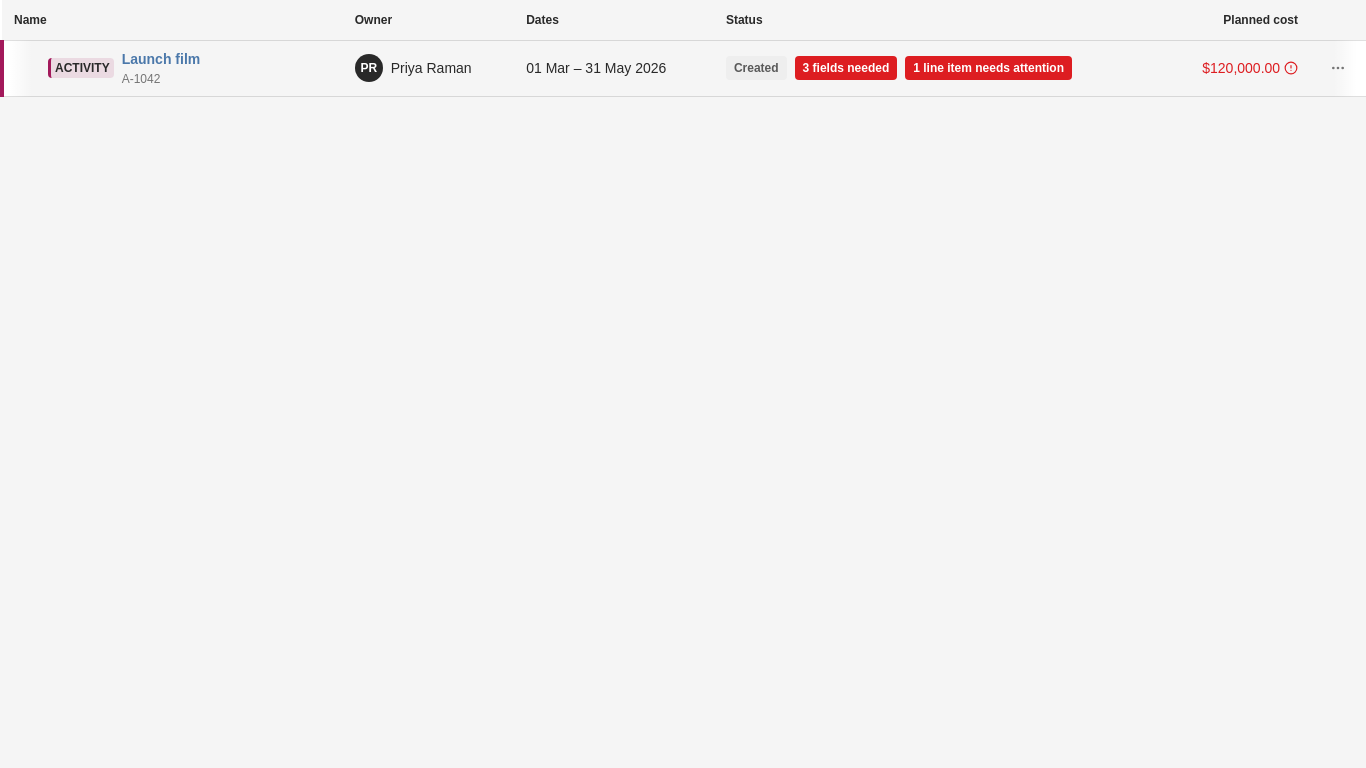
Test case: activityTreeRows (feature 006) › deletes an activity from its row after asking, by keyboard, and offers Undo (FR-031)
Click the button named "Actions for Launch film": (1338, 68) [1322,52,1354,84]
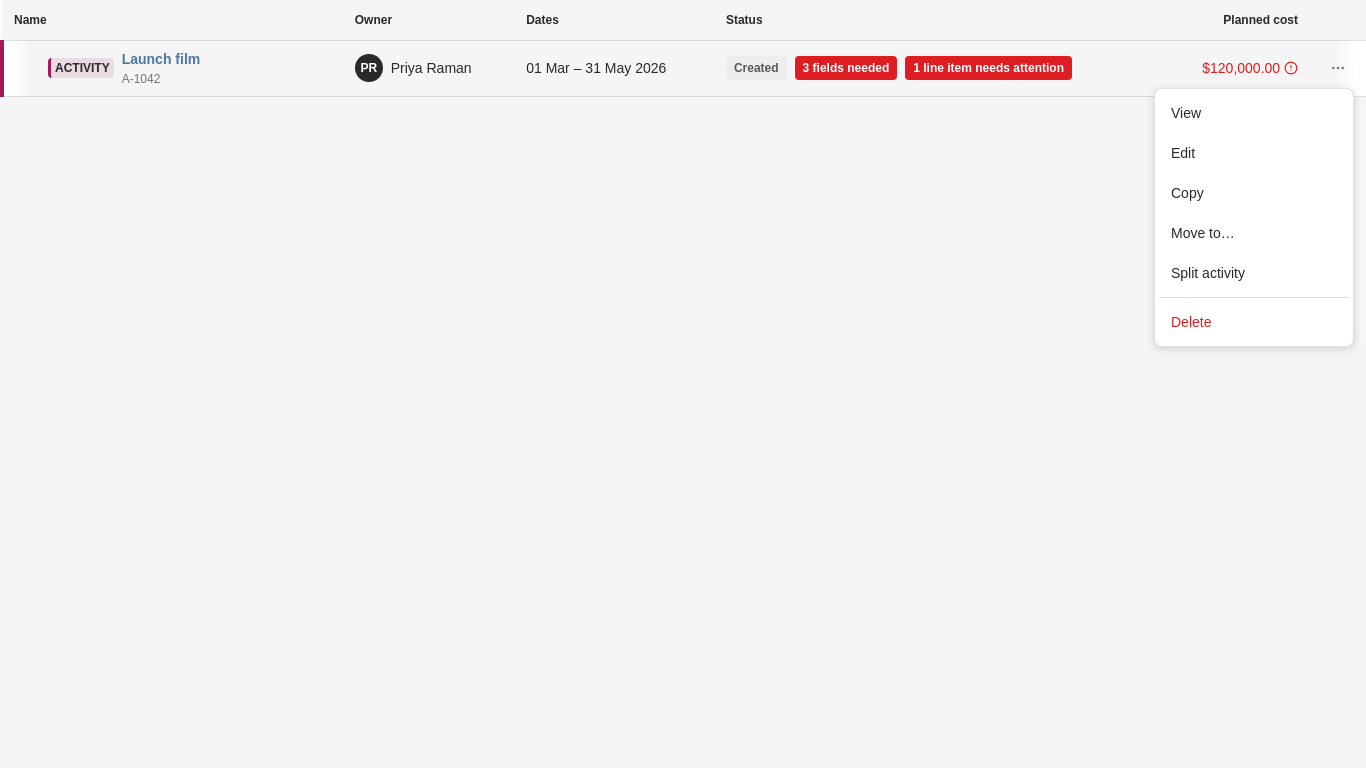
Click the menu item "Delete": (1191, 322) [1171,314,1212,330]
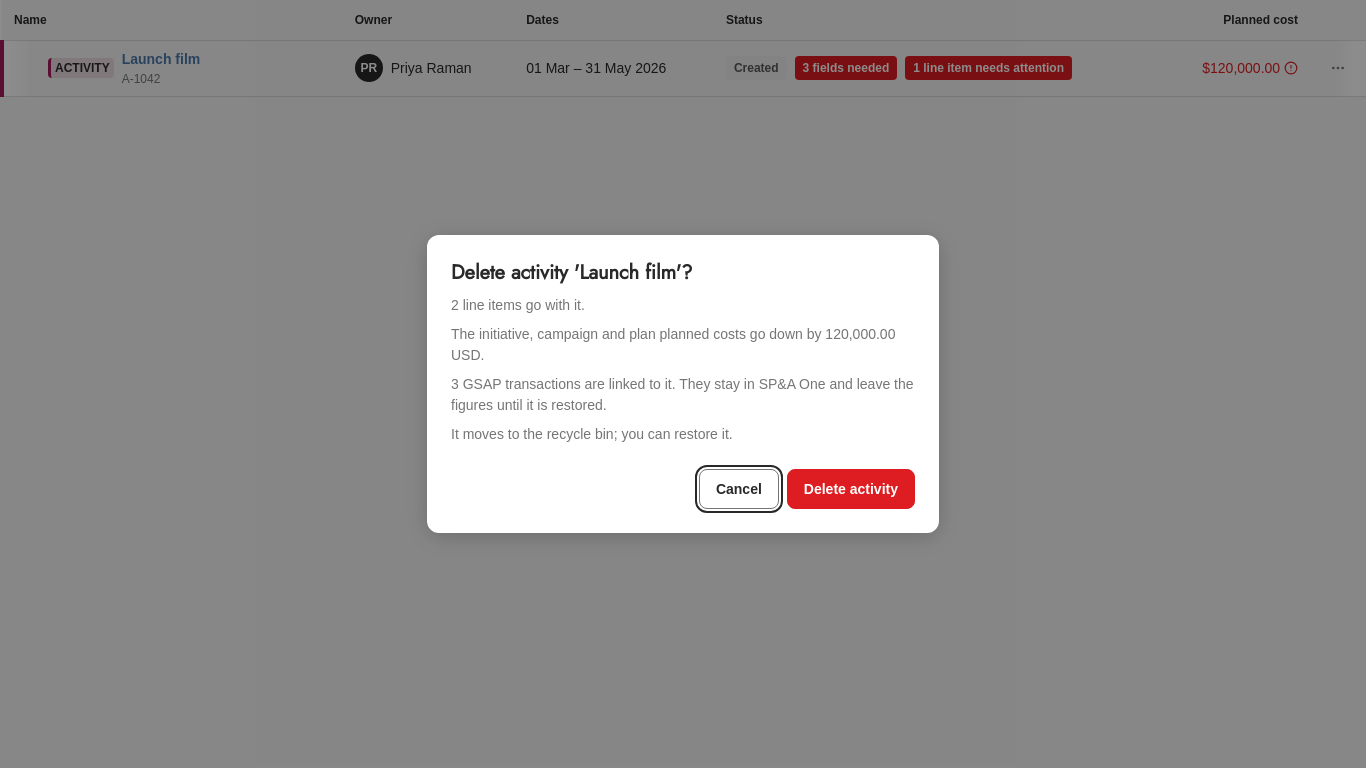
Expected: the text "2 line items go with it." is shown, [451,297,585,313]
Expected: the text "3 GSAP transactions are linked to it. They stay in SP&A One and leave the figures until it is restored." is shown, [451,376,914,413]
Enter on the question's button is the dialog's, not the row's (which opens the page).
Press Tab
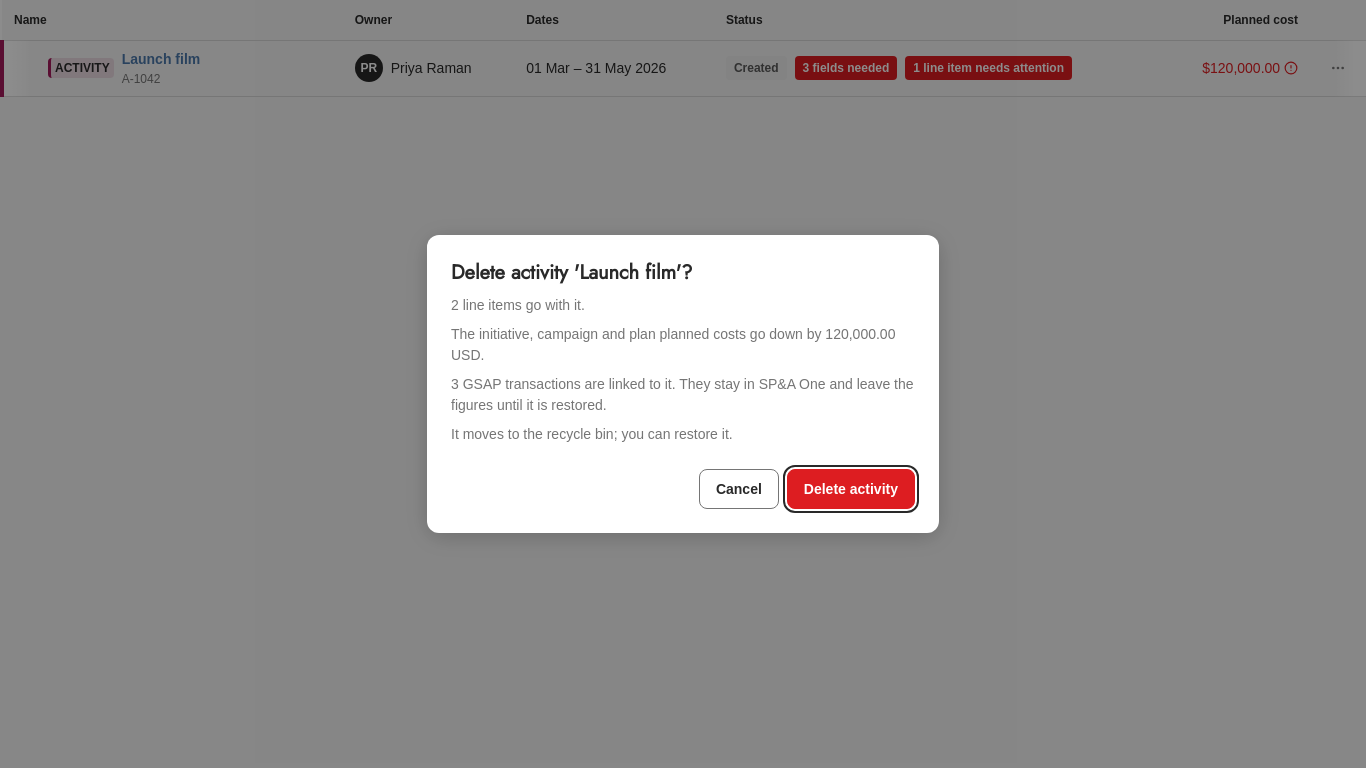
Press Enter
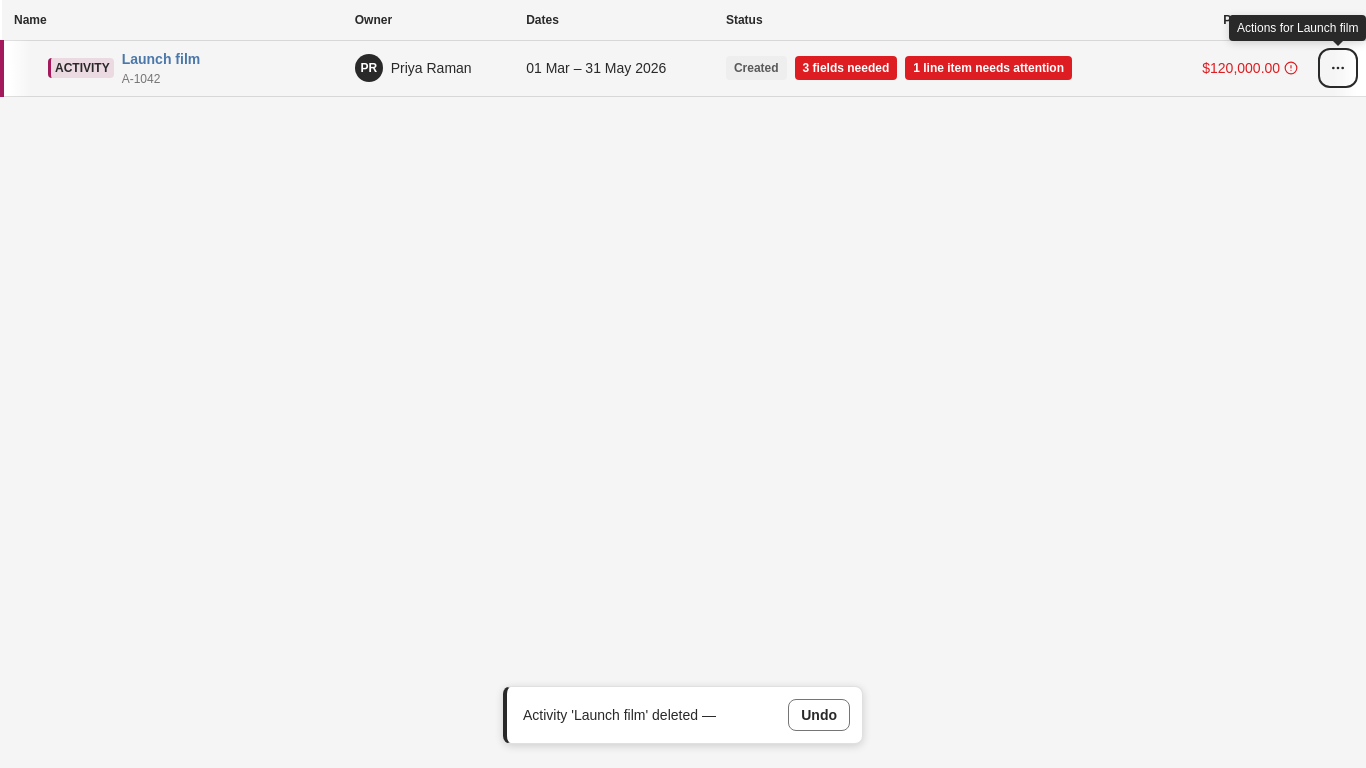
Expected: the text "Activity 'Launch film' deleted" is shown, [523,706,702,722]
Expected: the dialog is gone
Click the button "Undo": (819, 715) [788,699,850,731]
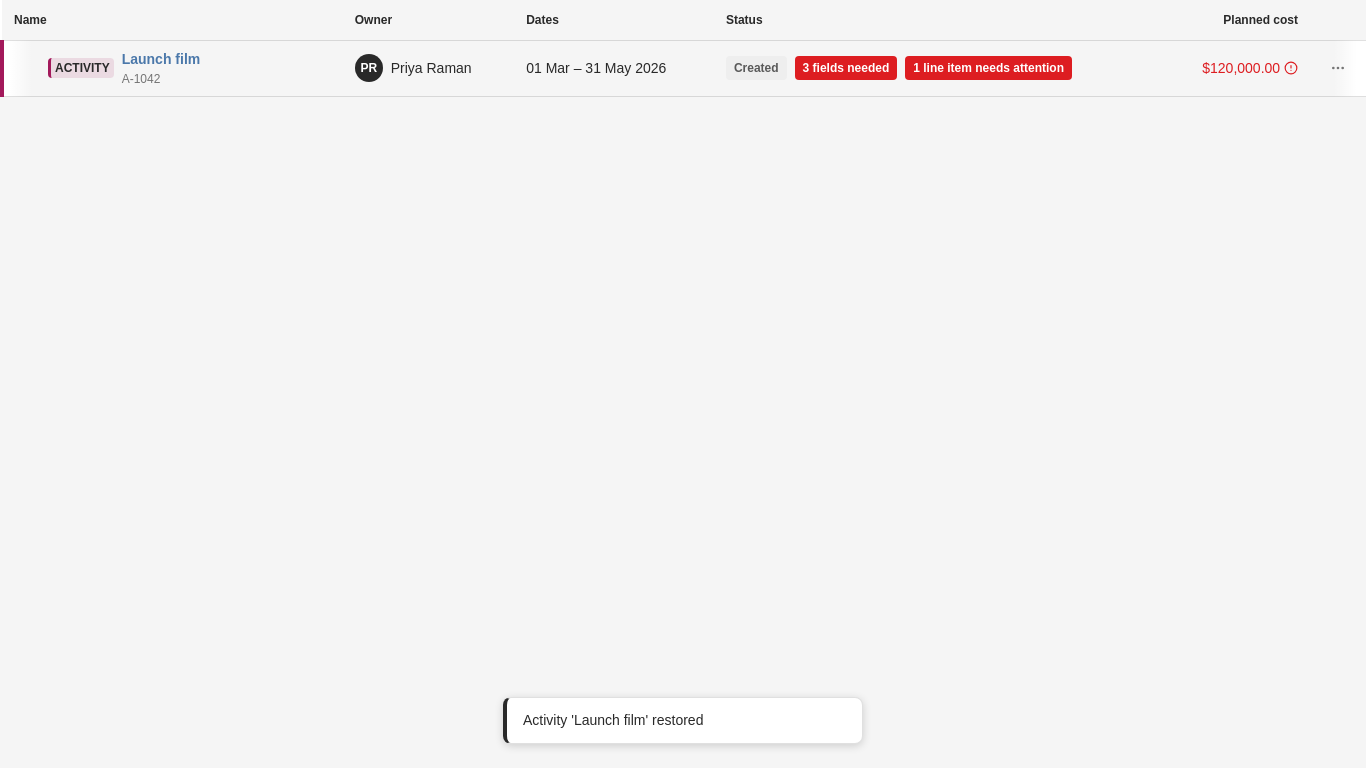
Expected: the text "Activity 'Launch film' restored" is shown, [523,712,703,728]
